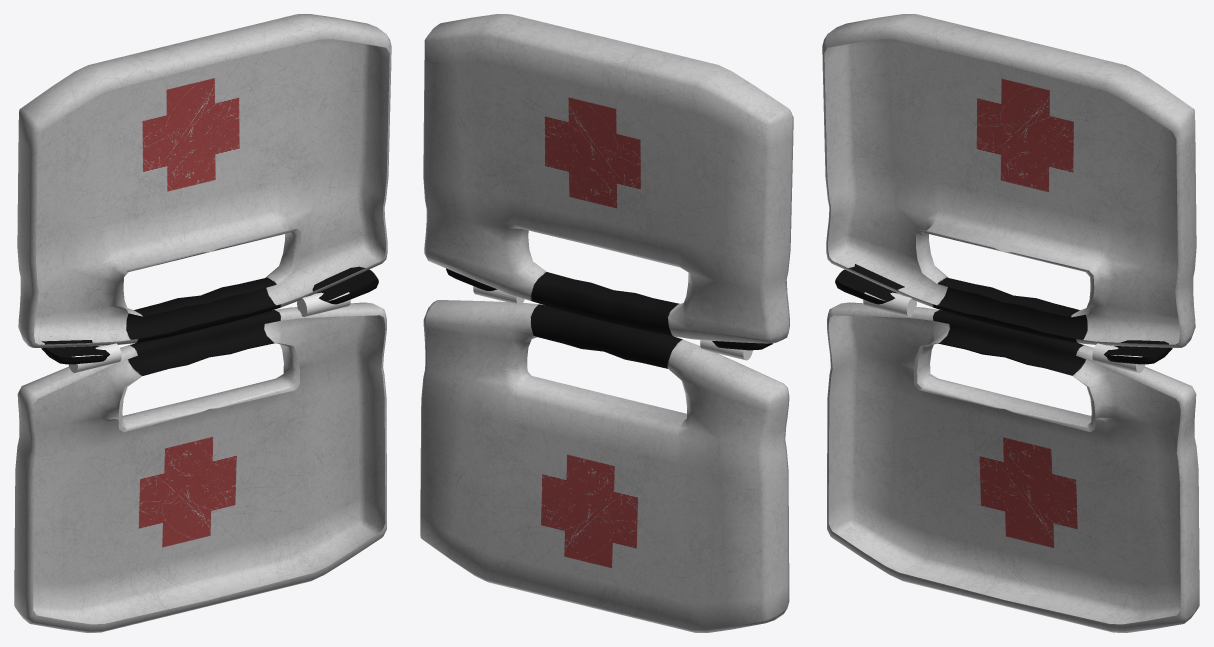
File: medical_kit_openable.fbx
3 renders of one model, left to right at view 1: azimuth 30°, elevation 25°; view 2: azimuth 150°, elevation 25°; view 3: azimuth 330°, elevation 25°, orthographic.
Visible parts, largest first — view 1: Medical_Kit_Lid, Medical_Kit_Body, Medical_Kit_Hinge.001, Medical_Kit_Hinge; view 2: Medical_Kit_Body, Medical_Kit_Lid; view 3: Medical_Kit_Lid, Medical_Kit_Body, Medical_Kit_Hinge, Medical_Kit_Hinge.001.
Part boxes in pixels (bbox=[...]): Medical_Kit_Lid: bbox=[17, 14, 391, 364]; Medical_Kit_Body: bbox=[14, 302, 386, 632]; Medical_Kit_Hinge.001: bbox=[297, 292, 350, 316]; Medical_Kit_Hinge: bbox=[68, 343, 121, 372]; Medical_Kit_Body: bbox=[420, 300, 789, 632]; Medical_Kit_Lid: bbox=[423, 14, 793, 350]; Medical_Kit_Lid: bbox=[822, 14, 1196, 364]; Medical_Kit_Body: bbox=[827, 302, 1199, 632]; Medical_Kit_Hinge: bbox=[863, 292, 916, 316]; Medical_Kit_Hinge.001: bbox=[1092, 343, 1145, 372].
Bounding box in the file's own units: 132 × 196 × 24.3.
2 materials, 1 textured.
